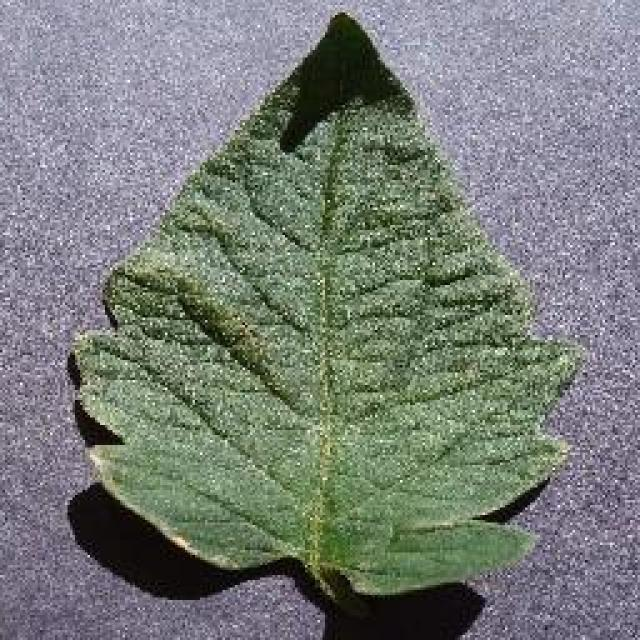Healthy: (48, 0, 602, 640)
